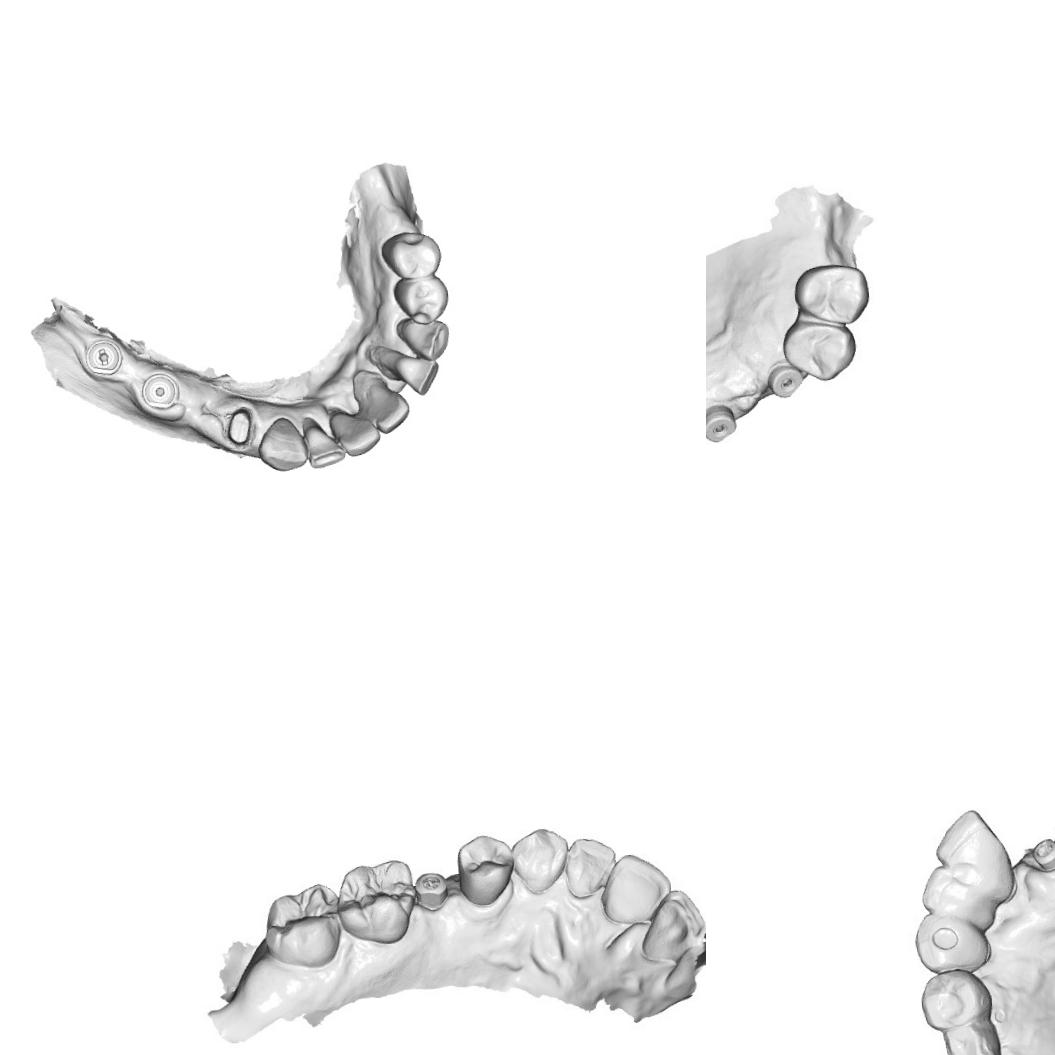canine: (505, 824, 571, 898), (915, 915, 990, 975), (254, 414, 309, 474), (394, 314, 451, 363)
crown: (223, 403, 257, 446)
implant: (139, 370, 182, 410), (414, 868, 451, 909), (766, 365, 804, 404), (706, 403, 738, 445), (1028, 835, 1055, 884)
implant_minus: (82, 336, 124, 376)
incisor: (939, 809, 1015, 906), (596, 847, 674, 928), (633, 885, 706, 967), (921, 866, 994, 932), (347, 364, 411, 436), (368, 340, 441, 399), (560, 832, 620, 898), (326, 406, 382, 458), (301, 412, 347, 469)
molar: (332, 855, 421, 948), (258, 881, 346, 968)
premolar: (778, 316, 857, 386), (450, 830, 520, 909), (789, 262, 871, 325), (920, 966, 992, 1032), (379, 228, 442, 280), (390, 274, 450, 326), (938, 1018, 1003, 1055)
